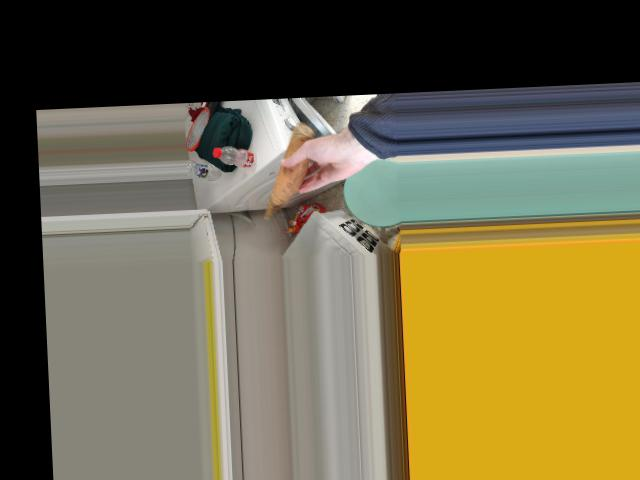sweet_potato: (266, 129, 315, 197)
